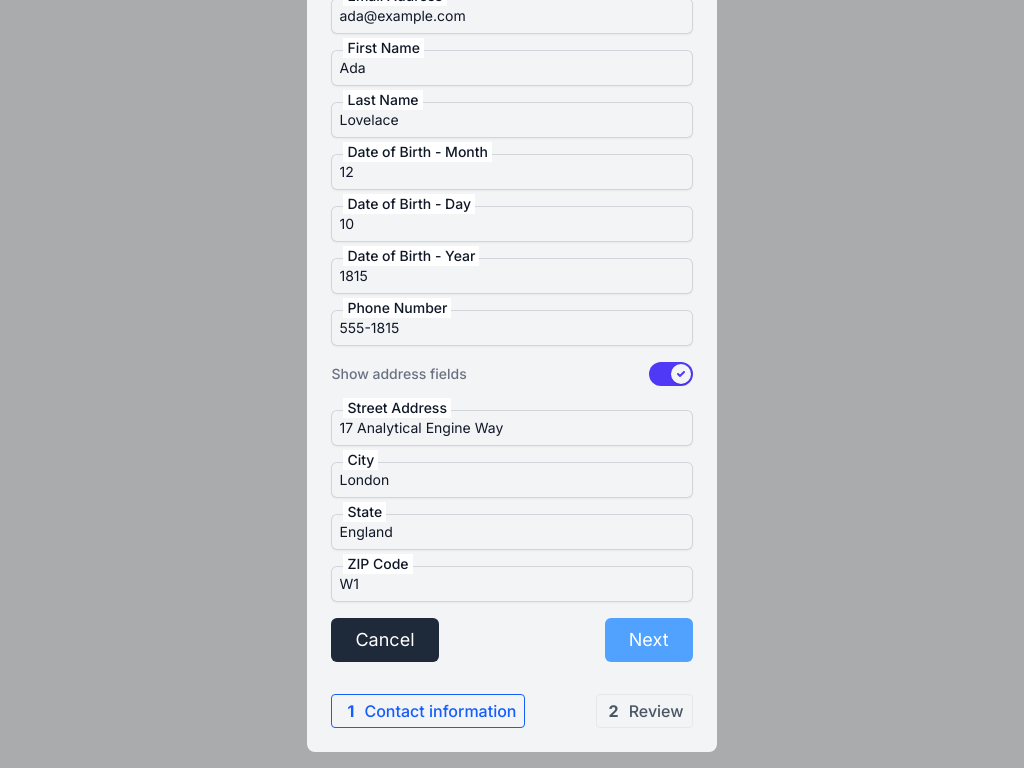
Test: contact dialog validation and review › reviews untouched update values exactly as they are stored
(page scrolled)
Expected: the field labelled "Email Address" holds "ada@example.com", [332,0,692,34]
Expected: the field labelled "First Name" holds "Ada", [332,50,692,86]
Click the button "Next": (649, 640) [605,618,692,662]
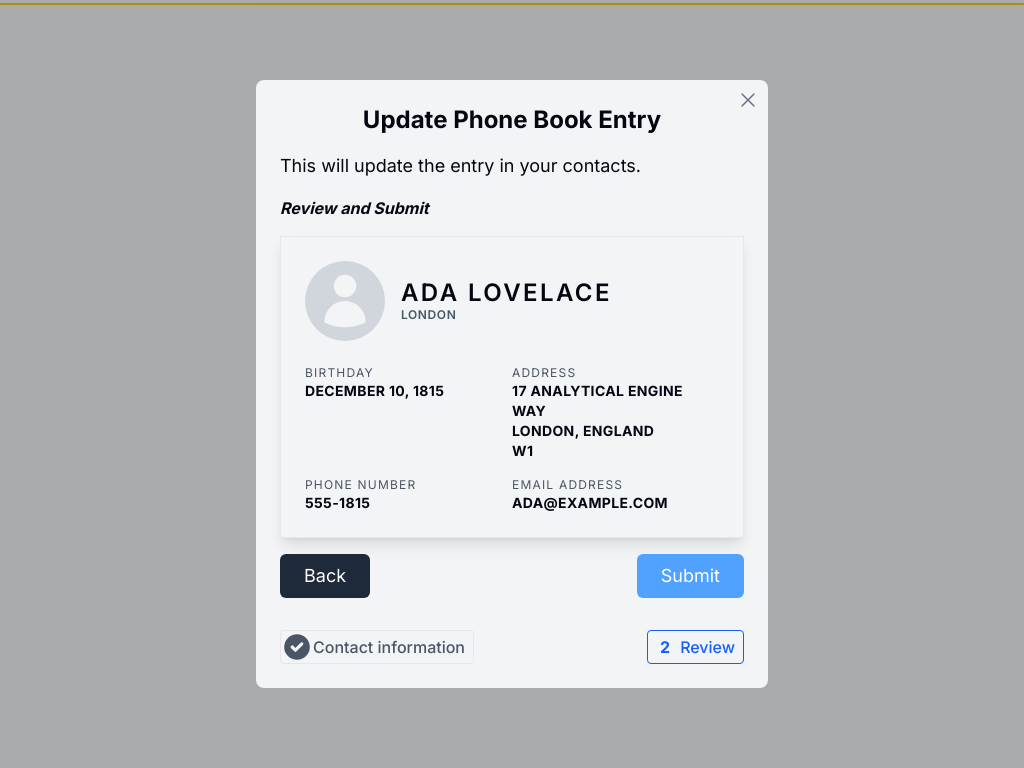
Expected: the text "Ada Lovelace" is shown, [401,279,612,307]
Expected: the text "December 10, 1815" is shown, [305,382,444,399]
Expected: the text "17 Analytical Engine Way" is shown, [512,382,683,419]
